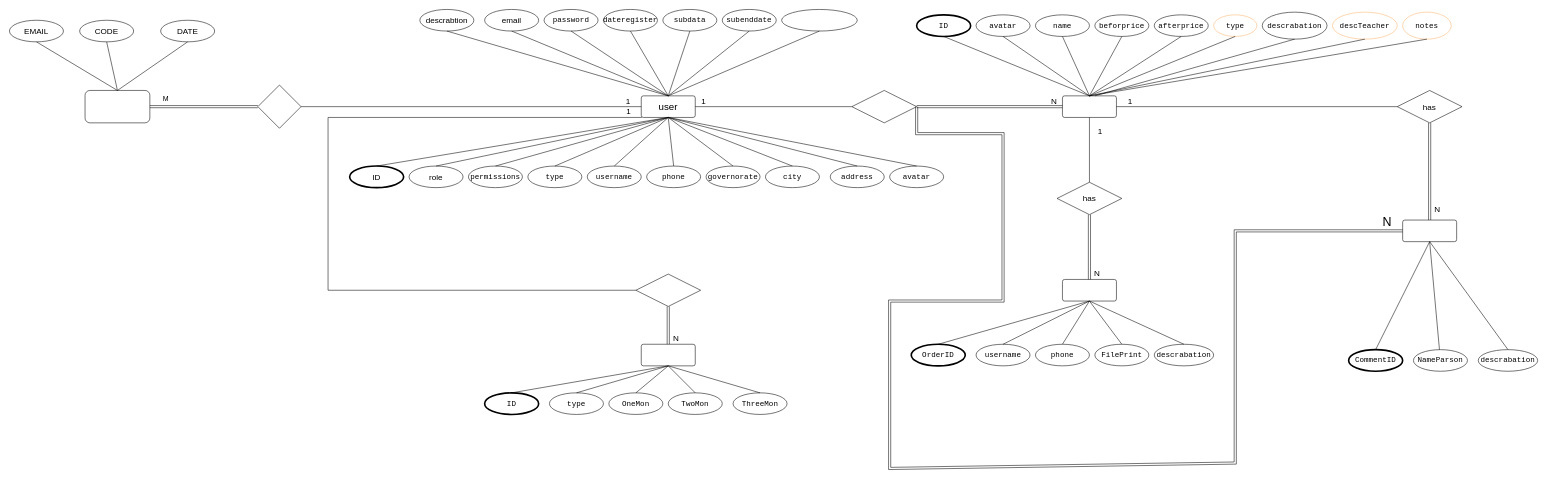
Some shapes in this 1547 by 480 pixel diagram are drawn without their labels. Each missing label, with the centre of its shape:
"assgin" goes at point 279,106.
"cardPaymant" goes at point 668,355.
"Comment" goes at point 1429,231.
"create" goes at point 884,106.
"deliveryservice" goes at point 819,20.
"Order" goes at point 1089,290.
"OTP" goes at point 117,106.
"Product" goes at point 1089,106.
"update" goes at point 668,290.
